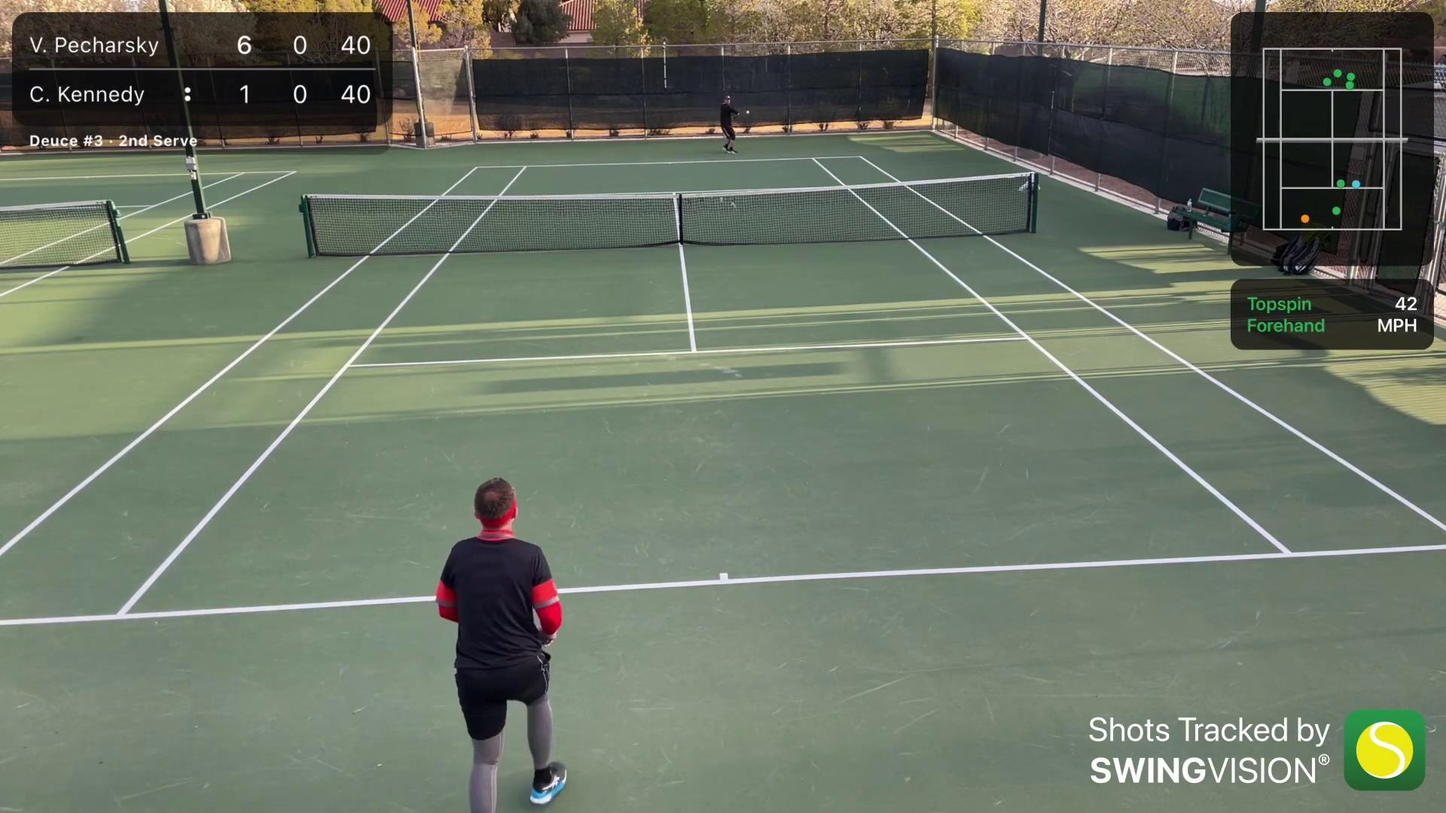ball: (745, 109, 750, 114)
